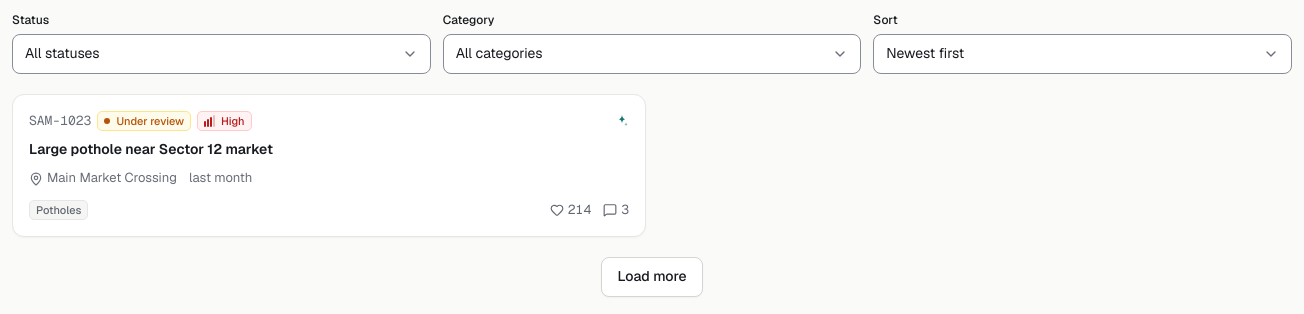
Test: MyProblemsList › appends the next page rather than replacing the list
Click the button "Load more". click: (652, 277)
box: [600,257,704,297]
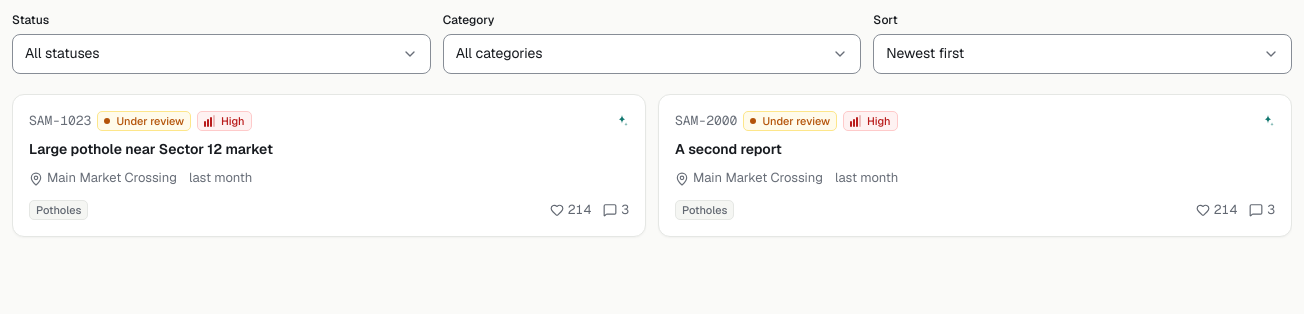
expect the text "SAM-1023" is shown: met, box [29,112,91,131]
expect the text "SAM-2000" is shown: met, box [675,112,737,131]
